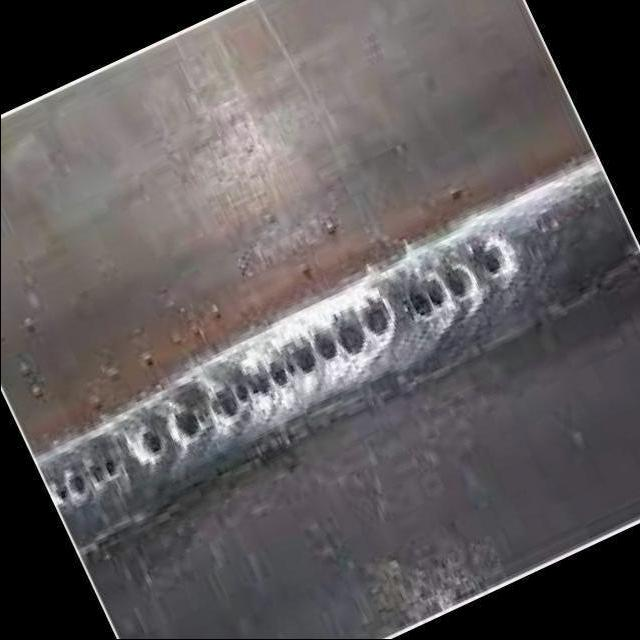defect: (205, 291, 398, 432), (400, 236, 513, 330), (51, 454, 122, 510), (158, 403, 199, 450), (130, 424, 167, 475)
